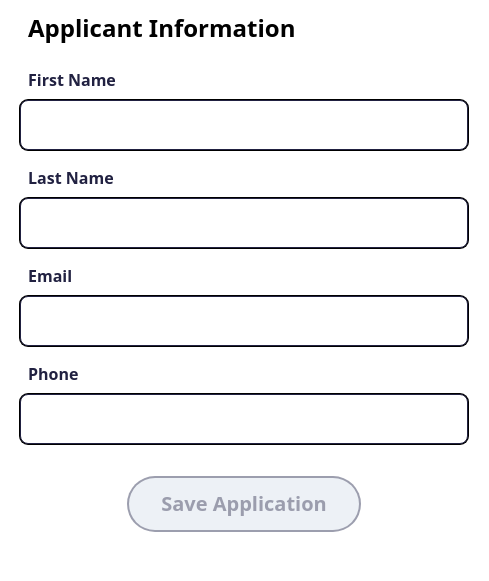
ApplicationForm › Form Validation › validates email format
Type "invalid-email" into the field labelled "Email" at [244, 321], box x1=20 y1=296 x2=468 y2=346
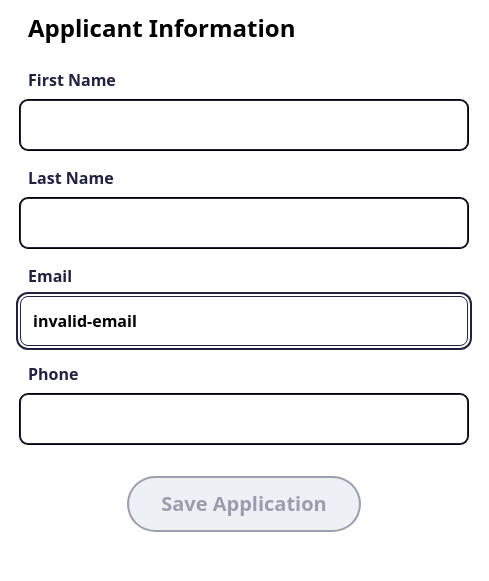
Press Tab
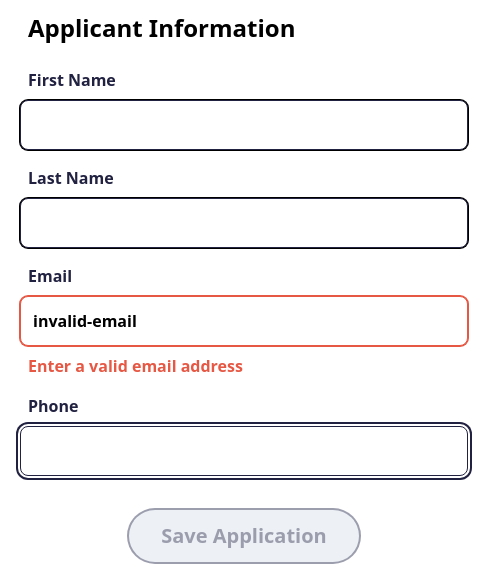
Expected: the text "Enter a valid email address" is shown, x1=28 y1=355 x2=243 y2=377
